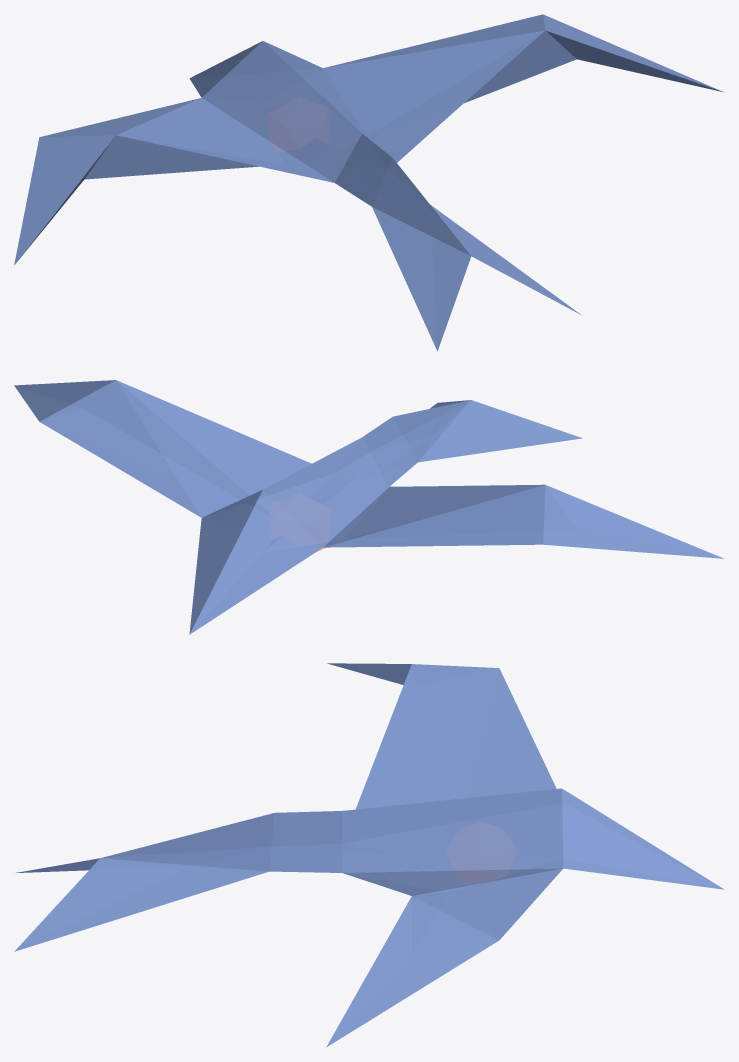
Rendered from BIRD.fbx.
3 views of the same model, one above another, from view 1: azimuth 30°, elevation 25°; view 2: azimuth 150°, elevation 25°; view 3: azimuth 270°, elevation 25° (orthographic). The views are drawn at different scales.
Visible parts, largest first — view 1: Plane; view 2: Plane; view 3: Plane.
Part boxes in pixels (x1,y1,x2,y2): Plane: [14, 14, 723, 351]; Plane: [14, 380, 724, 634]; Plane: [14, 663, 724, 1047].
Bounding box in the file's own units: 863 × 139 × 674.
